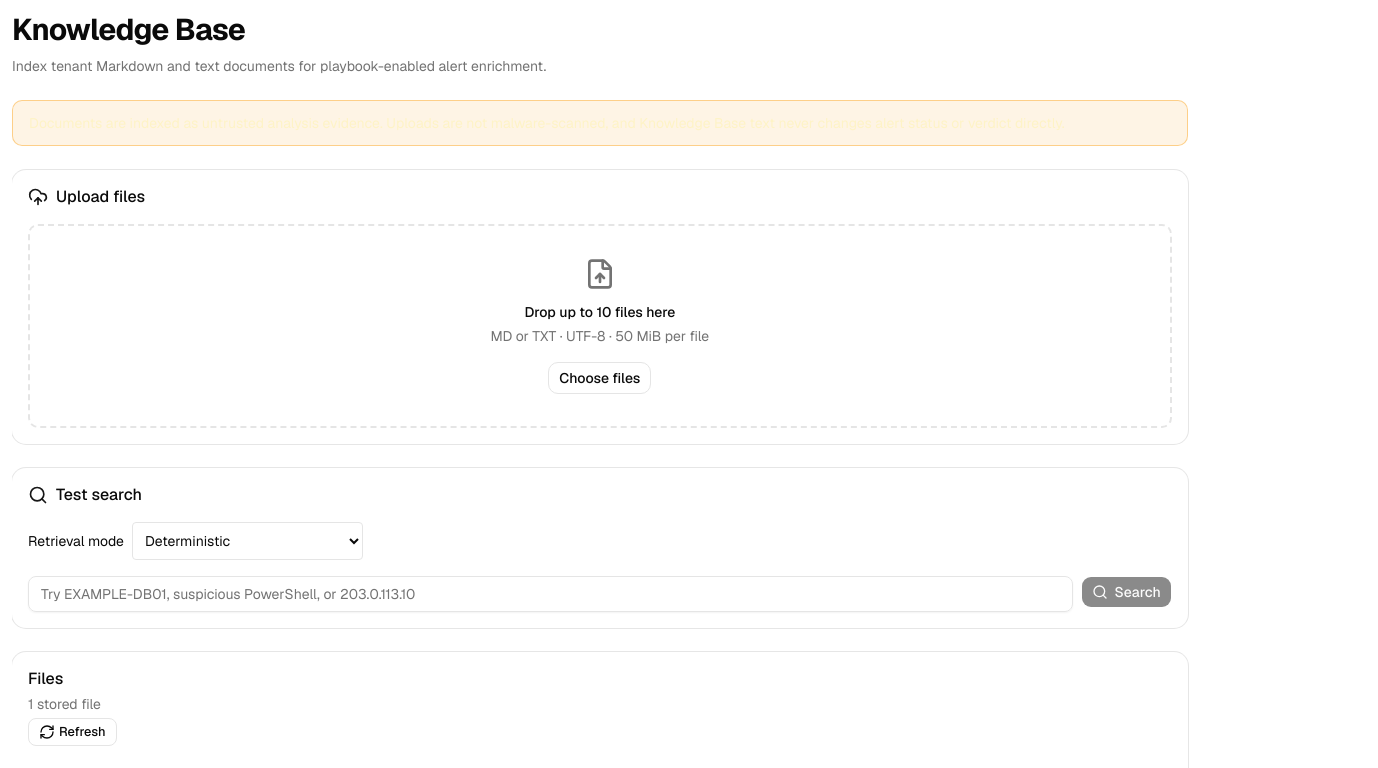
Test case: KnowledgeBaseView › requests hybrid retrieval and explains deterministic fallback
Select "Hybrid (Mem0 + deterministic)" in the dropdown labelled "Retrieval mode". click: (248,541)
box: [132,522,363,560]
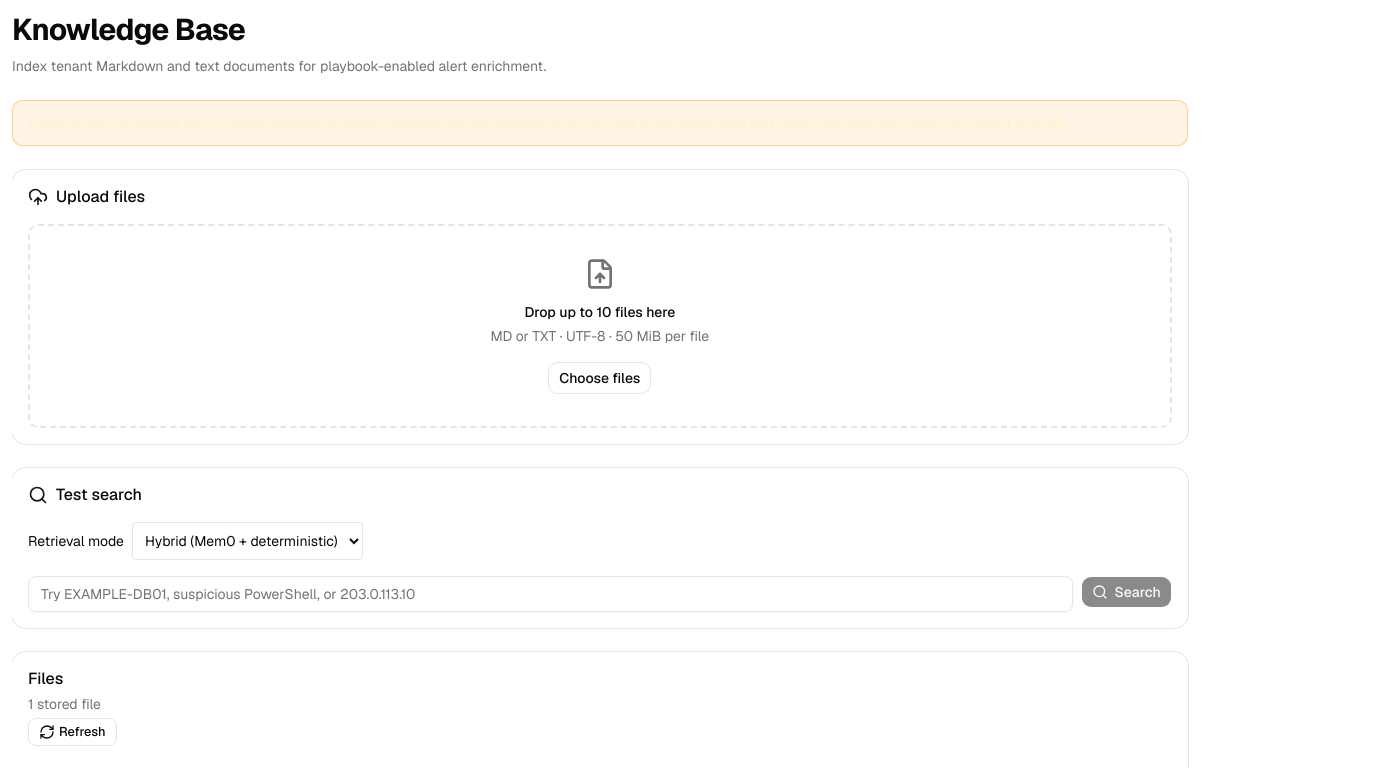
Type "EXAMPLE-DB01" into the field with placeholder "Try EXAMPLE-DB01, suspicious PowerShell, or 203.0.113.10". click: (551,594)
box: [28,576,1073,612]
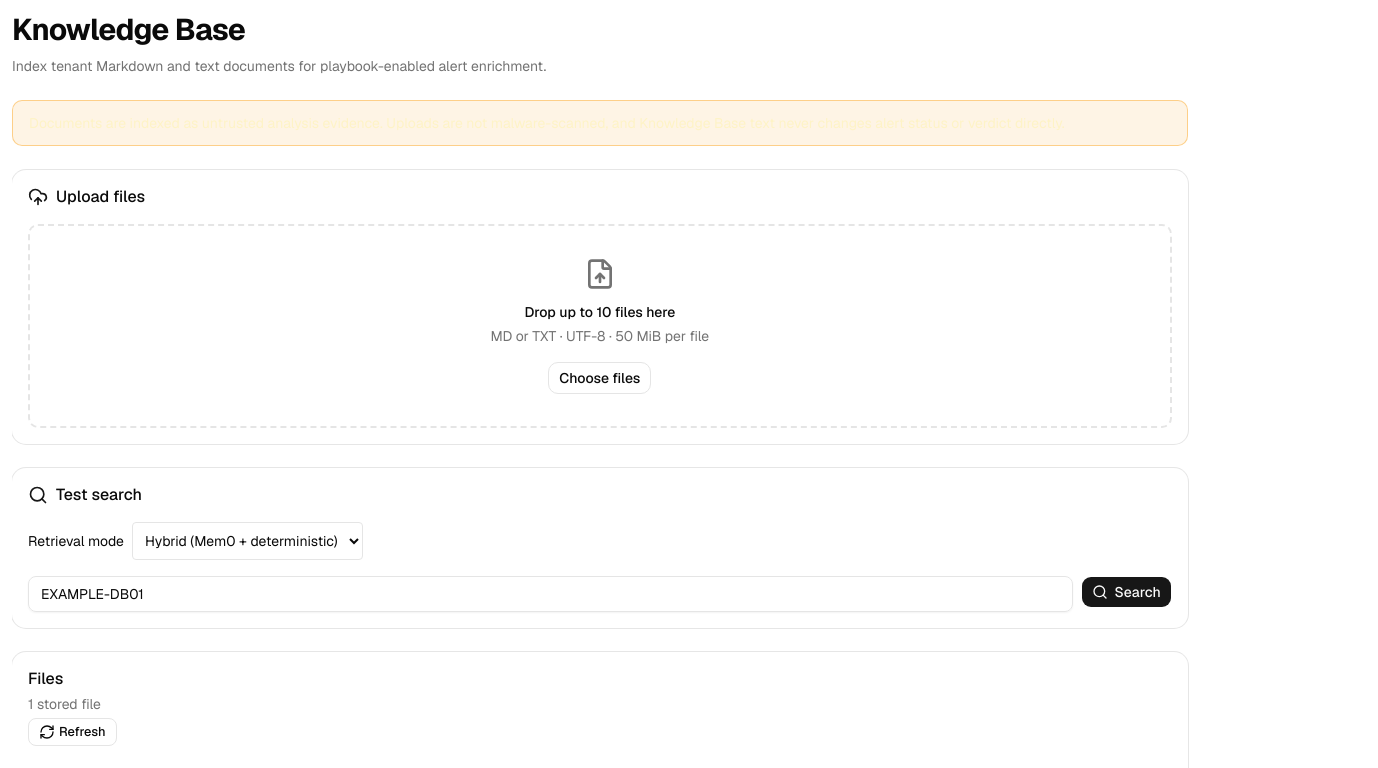
Click the button "Search". click: (1127,592)
box: [1081,576,1172,608]
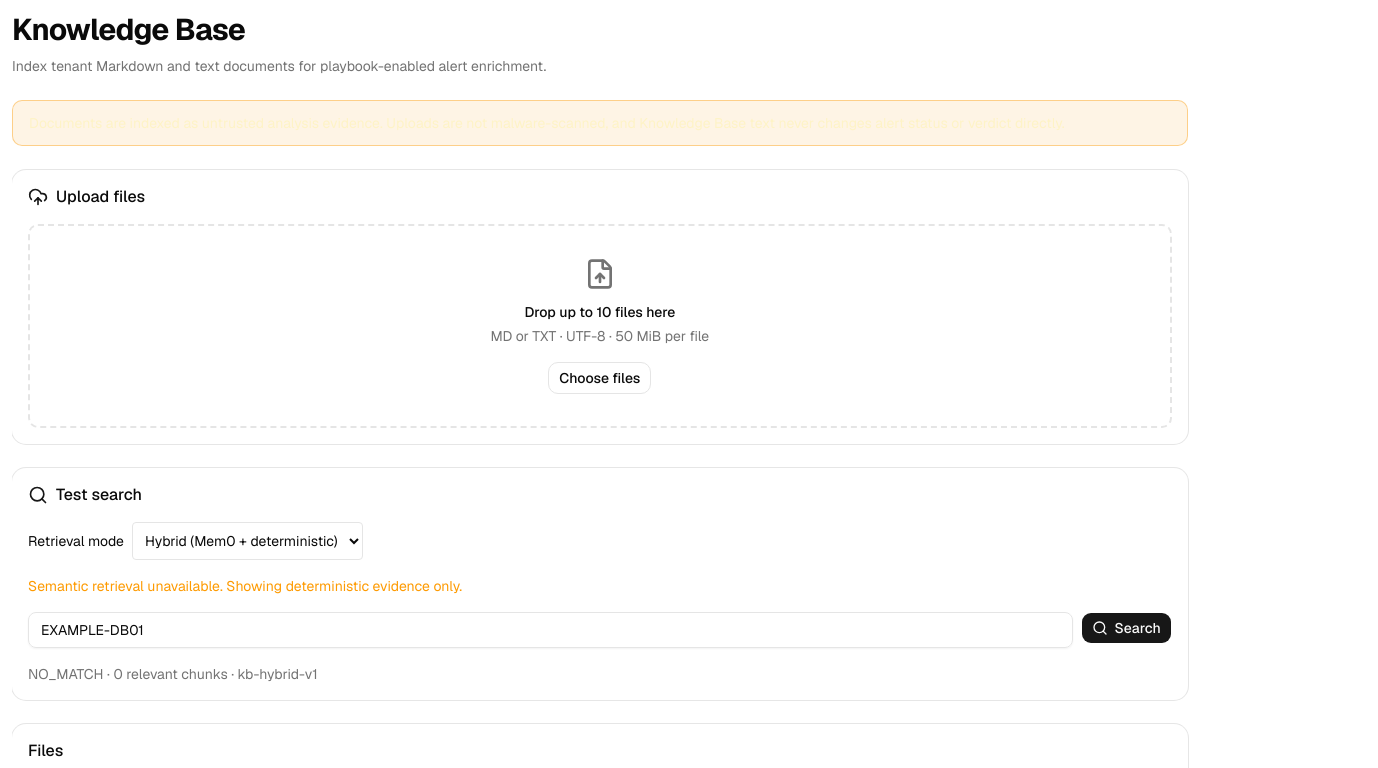
Now the text "Semantic retrieval unavailable. Showing deterministic evidence only." is shown, box [28,577,462,595]
